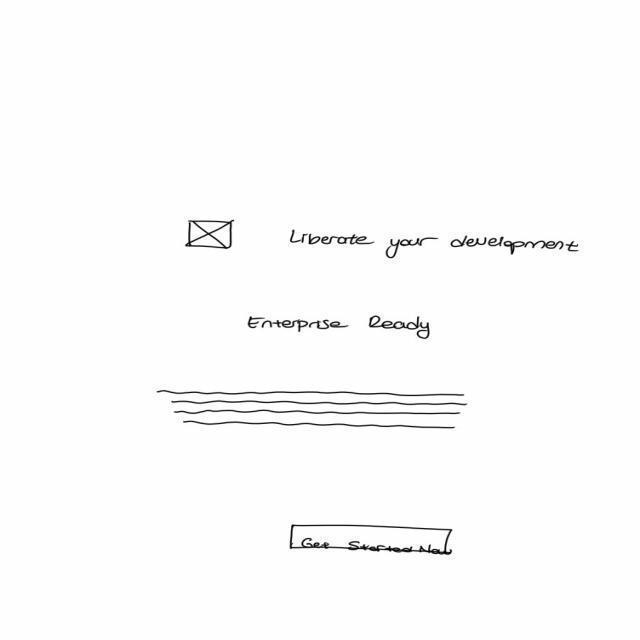button: (288, 524, 456, 558)
image: (185, 219, 236, 251)
label: (288, 230, 584, 262), (248, 315, 434, 343)
textbox: (155, 389, 471, 433)
